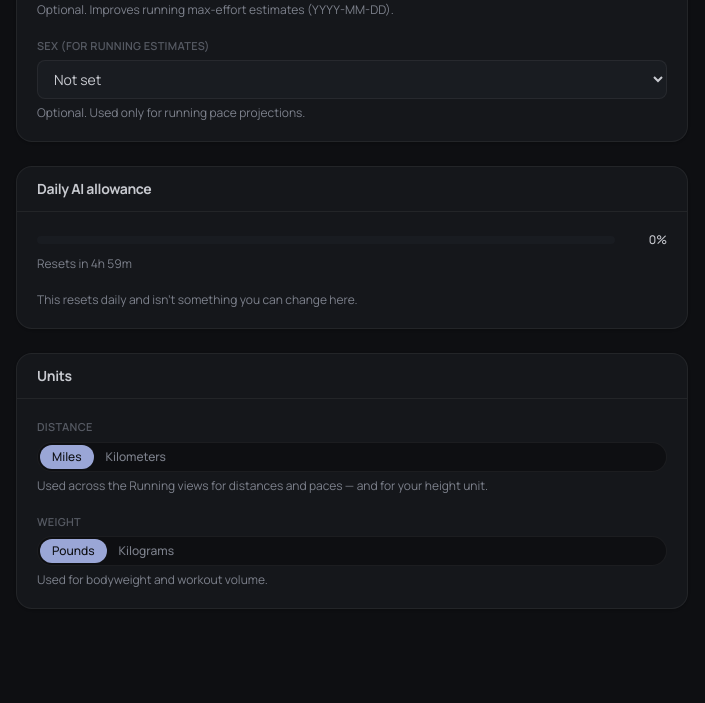
Test: Settings — height › re-expresses height when distance is flipped without marking height dirty
The image size is (705, 703).
(page scrolled)
Click the button "Kilometers": click(136, 456) x1=94 y1=444 x2=178 y2=468
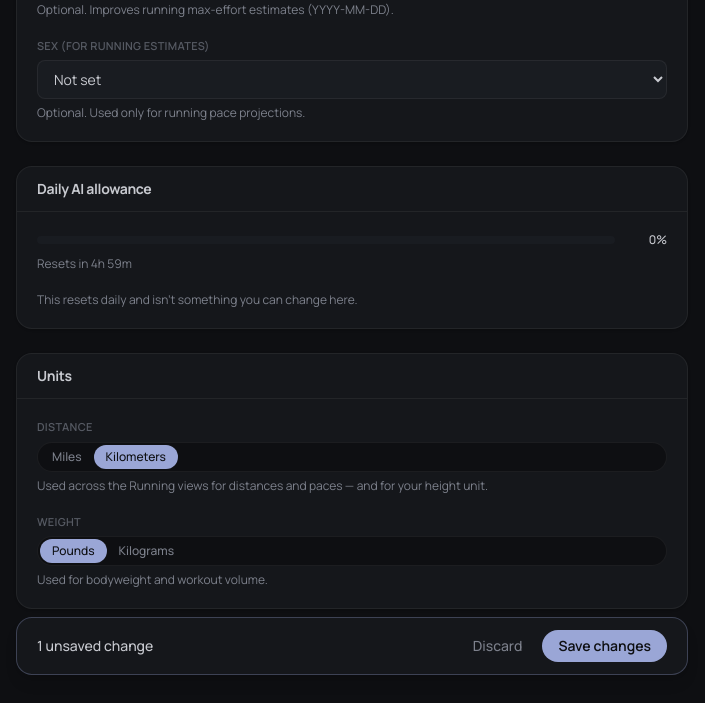
Expected: the text "1 unsaved change" is shown, x1=37 y1=636 x2=153 y2=656
Click the button "Miles": click(67, 456) x1=40 y1=444 x2=94 y2=468
(page scrolled)
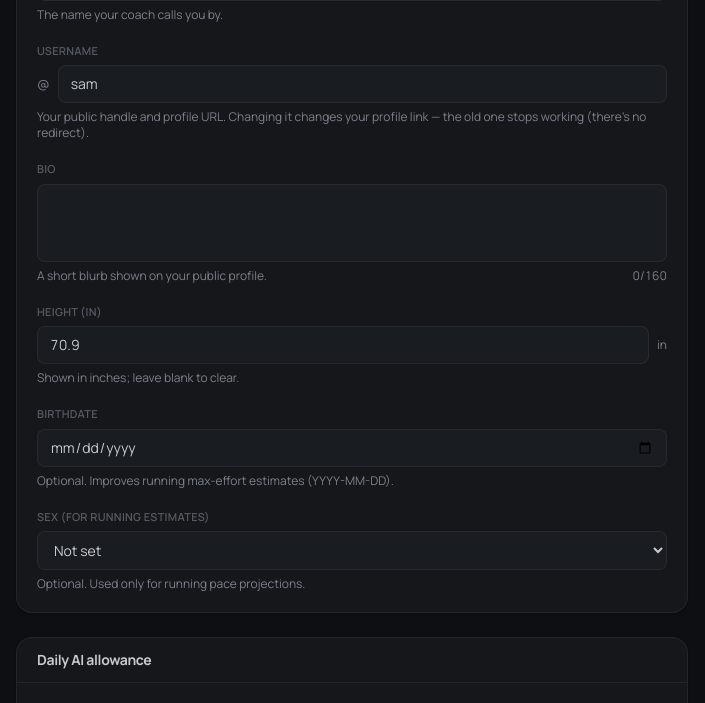
Expected: the number field named "Height (in)" holds "70.9", x1=37 y1=326 x2=649 y2=364
